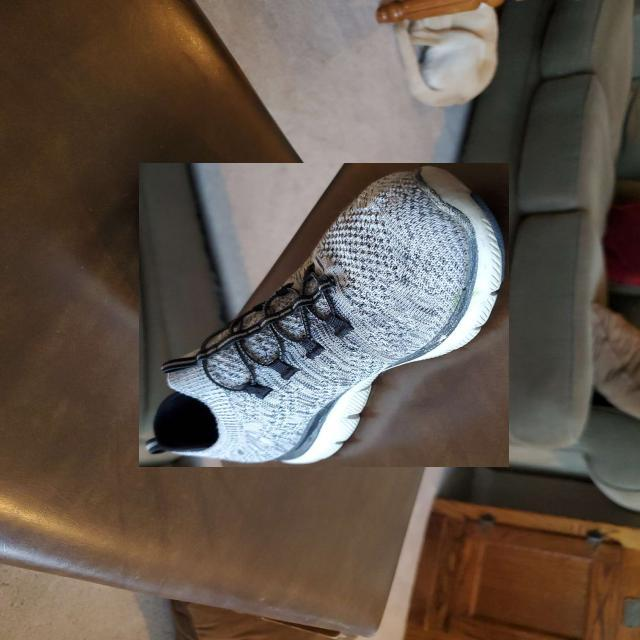shoe: (139, 163, 509, 467)
